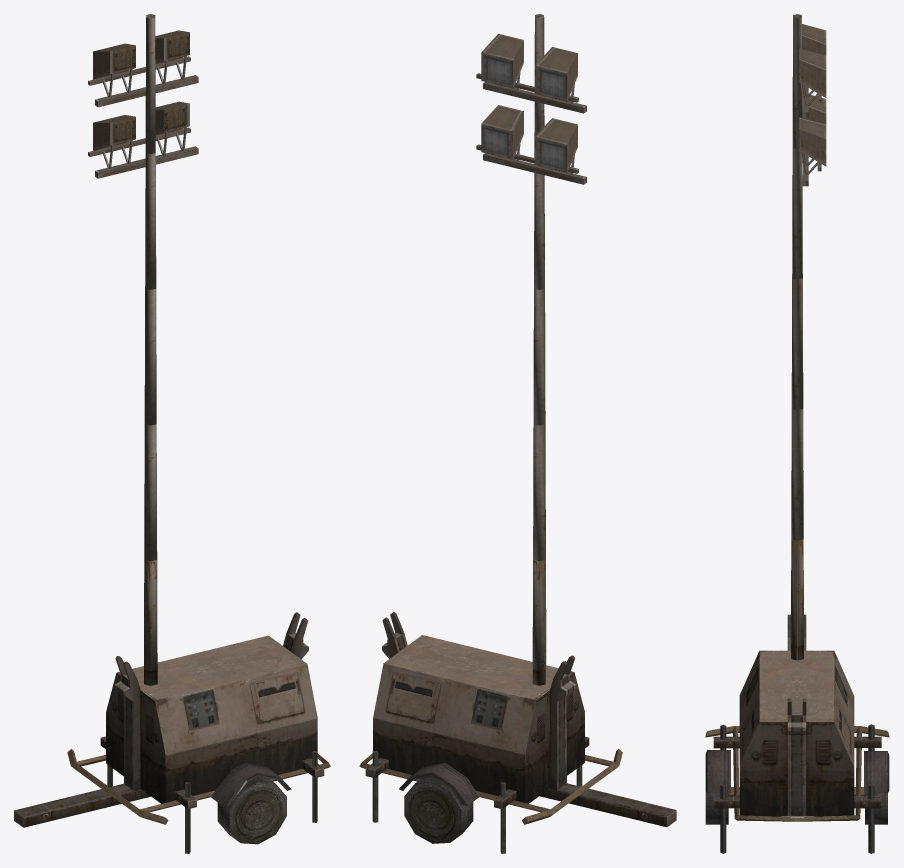
Rendered from Prop_Tzd_lod1.glb.
The picture shows the model from 3 angles, left to right: view 1: azimuth 30°, elevation 25°; view 2: azimuth 150°, elevation 25°; view 3: azimuth 270°, elevation 25°; orthographic projection. The views are drawn at different scales.
Visible parts, largest first — view 1: xiutz_tzd_lod1_0; view 2: xiutz_tzd_lod1_0; view 3: xiutz_tzd_lod1_0.
Part boxes in pixels (box(x1,y1,x2,y2)): xiutz_tzd_lod1_0: box(14, 14, 330, 853); xiutz_tzd_lod1_0: box(359, 14, 676, 853); xiutz_tzd_lod1_0: box(705, 14, 889, 853).
Bounding box in the file's own units: 4.25 × 11.5 × 2.47.
Materials: 2 (2 with a texture image).
